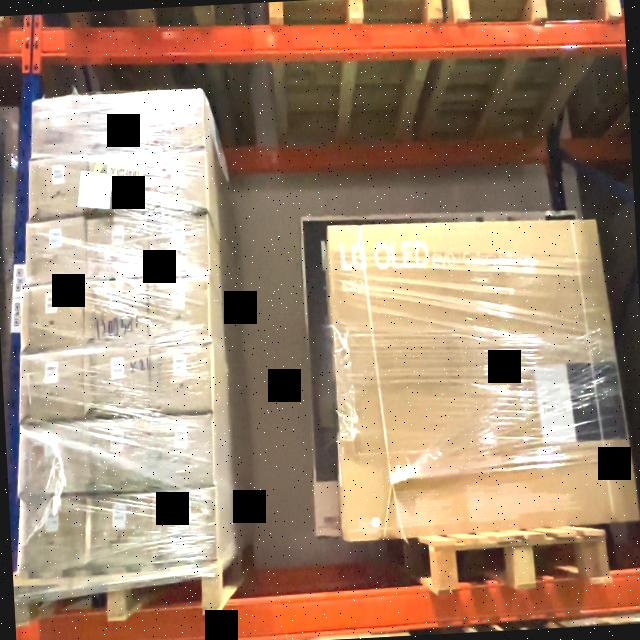box: (332, 218, 614, 536), (20, 427, 85, 497), (91, 419, 152, 492), (21, 352, 83, 420), (20, 504, 82, 572), (93, 500, 152, 567), (153, 346, 212, 412), (157, 494, 216, 560), (152, 424, 214, 486), (22, 286, 84, 347), (151, 280, 211, 343), (86, 282, 148, 342), (25, 221, 85, 282), (88, 219, 148, 280), (148, 88, 204, 152), (87, 353, 150, 407), (90, 158, 148, 212), (150, 213, 207, 267), (32, 104, 88, 158), (90, 96, 146, 150), (150, 154, 207, 204), (30, 164, 84, 214)
